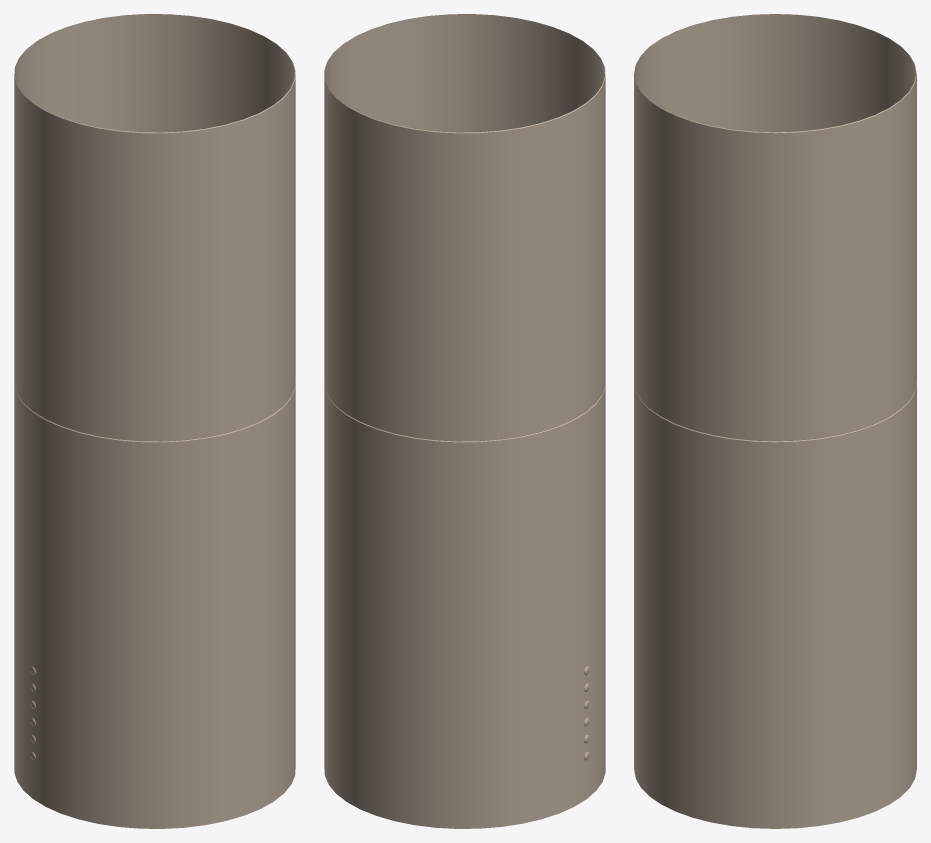
The model's file is Hood.fbx.
3 views of the same model, side by side, from view 1: azimuth 30°, elevation 25°; view 2: azimuth 150°, elevation 25°; view 3: azimuth 270°, elevation 25° (orthographic).
Parts seen in each view (by area): view 1: Hood; view 2: Hood; view 3: Hood.
Part boxes in pixels (<box>): Hood: <box>14,14,295,828</box>; Hood: <box>324,14,605,828</box>; Hood: <box>634,14,916,828</box>.
Bounding box in the file's own units: 45.02 × 122 × 45.
